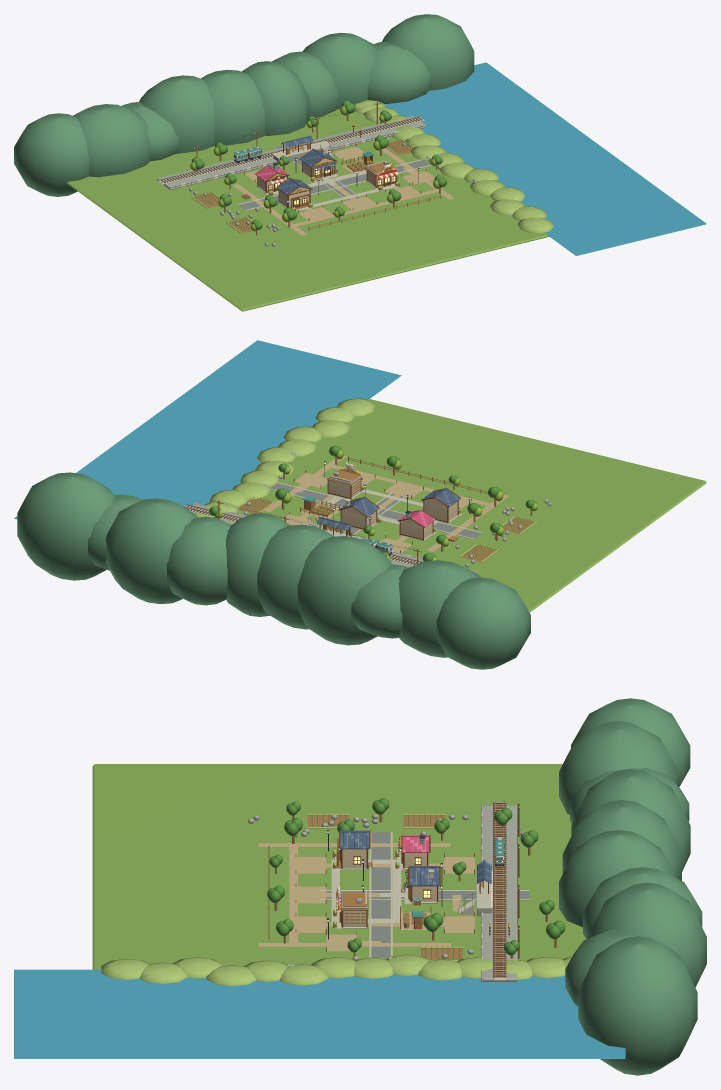
Rendered from MOB_CHILL_TOWN.glb.
3 renders of one model, top to bottom at view 1: azimuth 30°, elevation 25°; view 2: azimuth 150°, elevation 25°; view 3: azimuth 270°, elevation 25°, orthographic. The views are drawn at different scales.
Visible parts, largest first — view 1: Continuous meadow ground, Coastal sea, Distant rounded mountain, Distant rounded mountain.001, Distant rounded mountain.009, Distant rounded mountain.003, Distant rounded mountain.004, Distant rounded mountain.005, Distant rounded mountain.007, Distant rounded mountain.008, Continuous non-overlapping sand walking surface, Distant rounded mountain.006 (+6 smaller); view 2: Continuous meadow ground, Coastal sea, Distant rounded mountain.009, Distant rounded mountain, Distant rounded mountain.003, Distant rounded mountain.007, Distant rounded mountain.006, Distant rounded mountain.001, Distant rounded mountain.004, Distant rounded mountain.005, Distant rounded mountain.002, Continuous non-overlapping sand walking surface (+3 smaller); view 3: Continuous meadow ground, Coastal sea, Distant rounded mountain.009, Distant rounded mountain.007, Continuous non-overlapping sand walking surface, Distant rounded mountain.001, Distant rounded mountain.005, Distant rounded mountain.003, Distant rounded mountain.004, Distant rounded mountain, Rail embankment, Continuous non-overlapping asphalt walking surface (+16 smaller).
Boxes of the visible parts, x1,y1,x2,y2 form: Continuous meadow ground: (67, 109, 549, 311); Coastal sea: (384, 62, 706, 255); Distant rounded mountain: (14, 113, 88, 196); Distant rounded mountain.001: (73, 104, 150, 177); Distant rounded mountain.009: (382, 14, 474, 90); Distant rounded mountain.003: (139, 75, 214, 153); Distant rounded mountain.004: (201, 69, 265, 145); Distant rounded mountain.005: (241, 61, 309, 135); Distant rounded mountain.007: (302, 32, 376, 109); Distant rounded mountain.008: (367, 41, 431, 103); Continuous non-overlapping sand walking surface: (233, 146, 454, 235); Distant rounded mountain.006: (272, 51, 337, 117); Continuous meadow ground: (236, 399, 706, 612); Coastal sea: (14, 340, 401, 519); Distant rounded mountain.009: (17, 472, 115, 580); Distant rounded mountain: (436, 577, 530, 669); Distant rounded mountain.003: (297, 536, 391, 645); Distant rounded mountain.007: (105, 498, 197, 604); Distant rounded mountain.006: (167, 516, 231, 605); Distant rounded mountain.001: (398, 560, 480, 657); Distant rounded mountain.004: (257, 524, 334, 629); Distant rounded mountain.005: (226, 513, 290, 616); Distant rounded mountain.002: (351, 564, 409, 638); Continuous non-overlapping sand walking surface: (264, 455, 508, 552); Continuous meadow ground: (92, 764, 585, 969); Coastal sea: (14, 969, 625, 1058); Distant rounded mountain.009: (578, 936, 697, 1075); Distant rounded mountain.007: (587, 882, 706, 987); Continuous non-overlapping sand walking surface: (258, 843, 474, 951); Distant rounded mountain.001: (559, 721, 677, 814); Distant rounded mountain.005: (559, 830, 675, 927); Distant rounded mountain.003: (571, 769, 690, 871); Distant rounded mountain.004: (562, 800, 681, 880); Distant rounded mountain: (571, 698, 690, 786); Rail embankment: (483, 805, 517, 981); Continuous non-overlapping asphalt walking surface: (326, 832, 529, 957).
Size of the model in its own units: 85.14 by 15.93 by 79.32.
